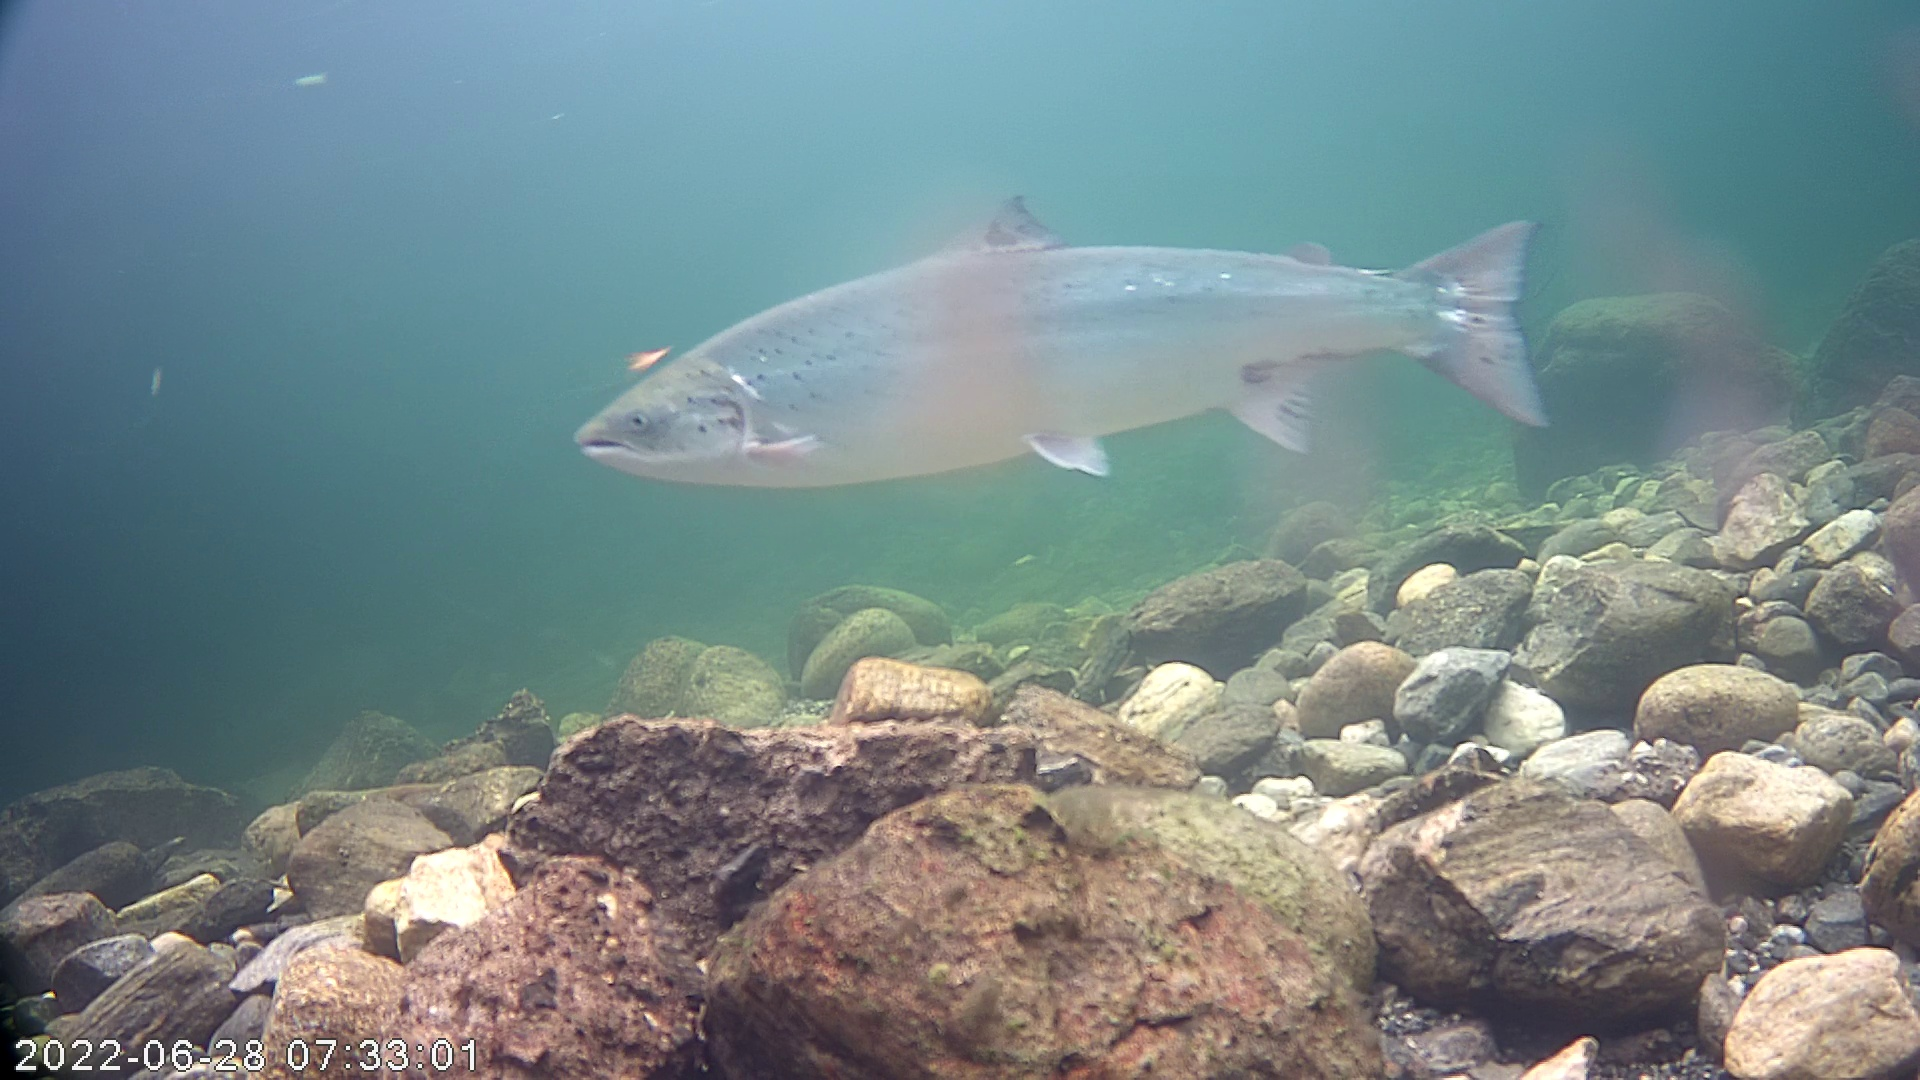salmon: (567, 113, 1585, 564)
